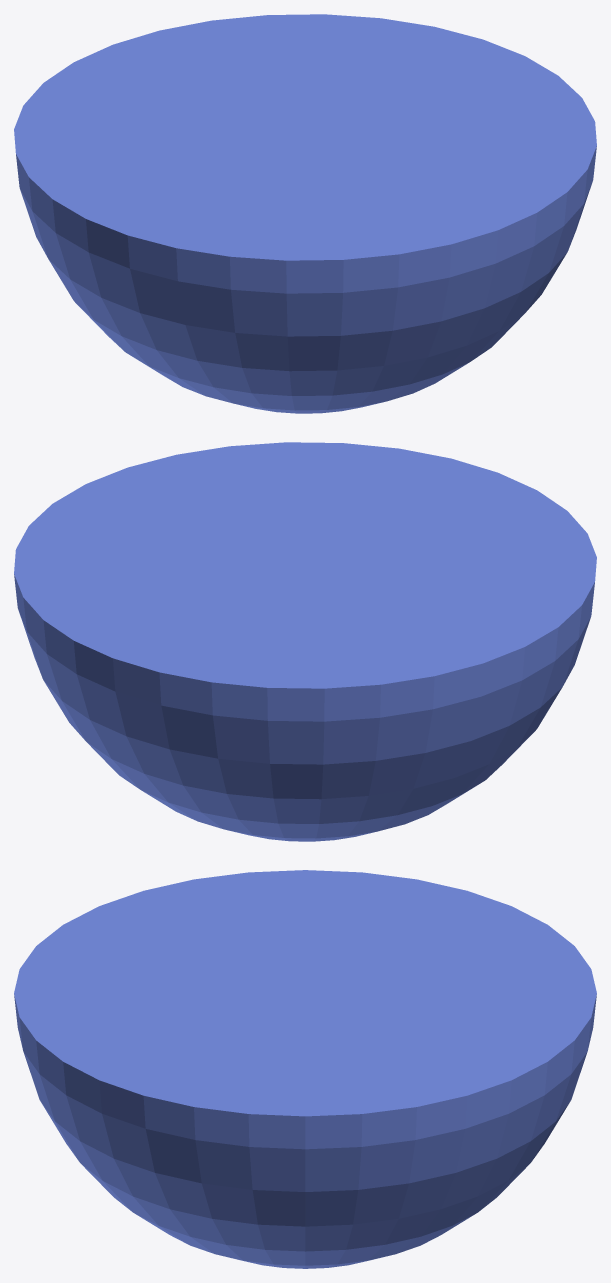
3 views of the same model, one above another, from view 1: azimuth 30°, elevation 25°; view 2: azimuth 150°, elevation 25°; view 3: azimuth 270°, elevation 25° (orthographic).
Parts seen in each view (by area): view 1: front_caster; view 2: front_caster; view 3: front_caster.
Part boxes in pixels (x1=…): front_caster: x1=14, y1=14, x2=596, y2=413; front_caster: x1=14, y1=442, x2=596, y2=841; front_caster: x1=14, y1=870, x2=596, y2=1268.
Size of the model in its own units: 1.99 by 1.99 by 0.9346.
